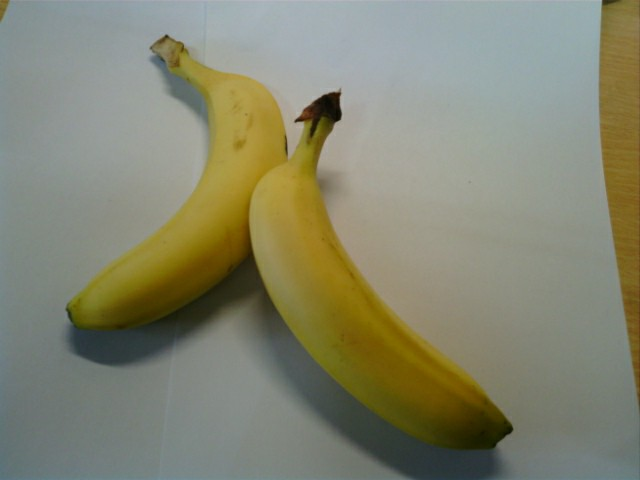fresh_banana: (248, 146, 514, 456), (65, 67, 287, 329)
